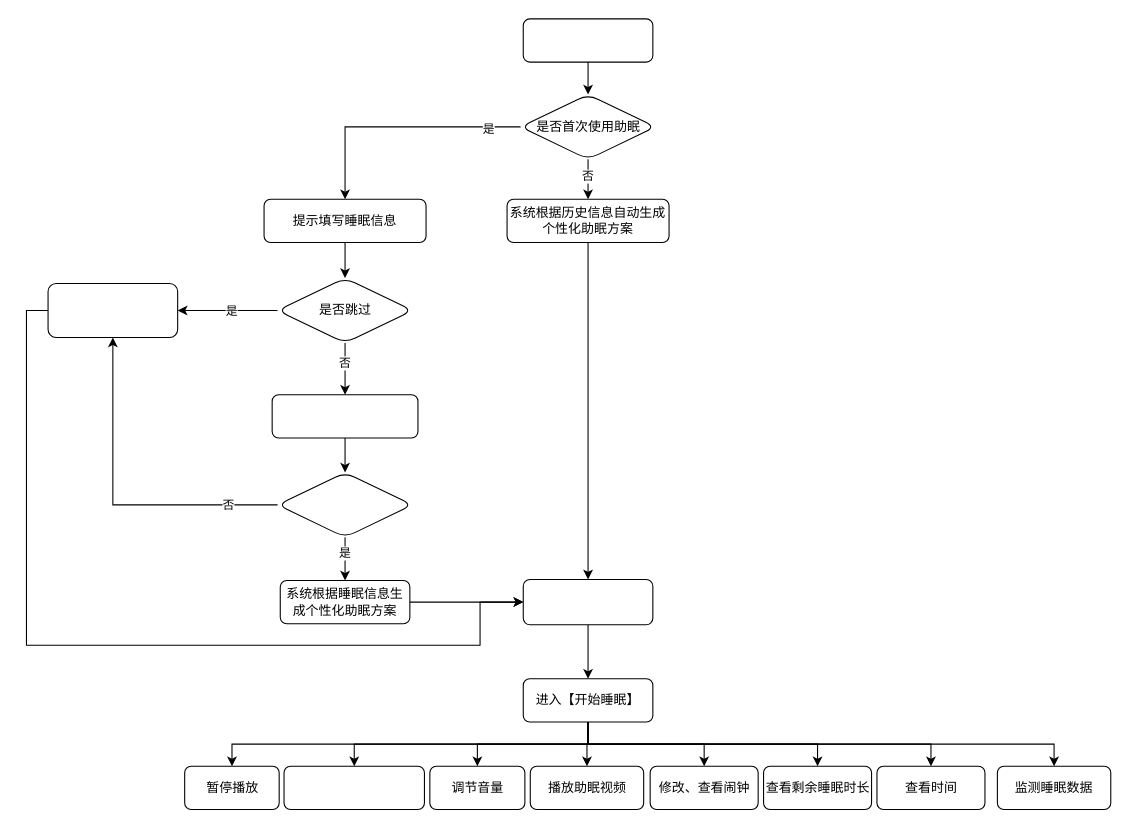
Image size: 1130x828. Some labels were removed from this diagram. Here are the shapes that lost their labels. From the top down, the centre of each, then its label:
At point (587, 40): "开始".
At point (112, 310): "系统自动推荐默认助眠方案".
At point (344, 416): "进入填写睡眠信息模块".
At point (344, 504): "成功提交睡眠信息".
At point (587, 601): "设置闹钟".
At point (353, 787): "调节助眠视频播放时长".
